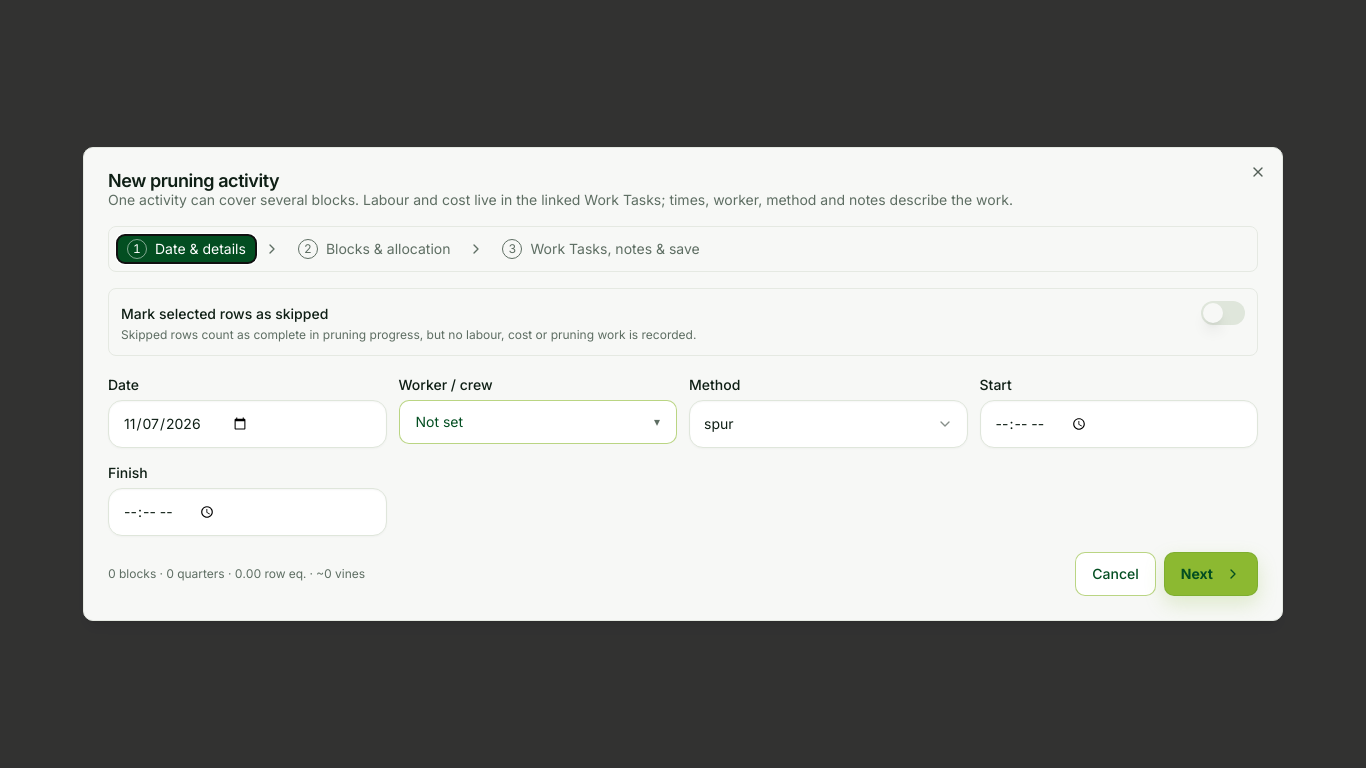
Test case: Record Pruning dialog — skipped mode › hides worker, method, times and Work Task when skipped is on
The width and height of the screenshot is (1366, 768).
Later steps or results of the test are not shown.
Expected: the text "Worker / crew" is shown, left=398, top=376, right=492, bottom=393
Click the switch named "Mark selected rows as skipped" at (1223, 313), box left=1201, top=301, right=1245, bottom=325
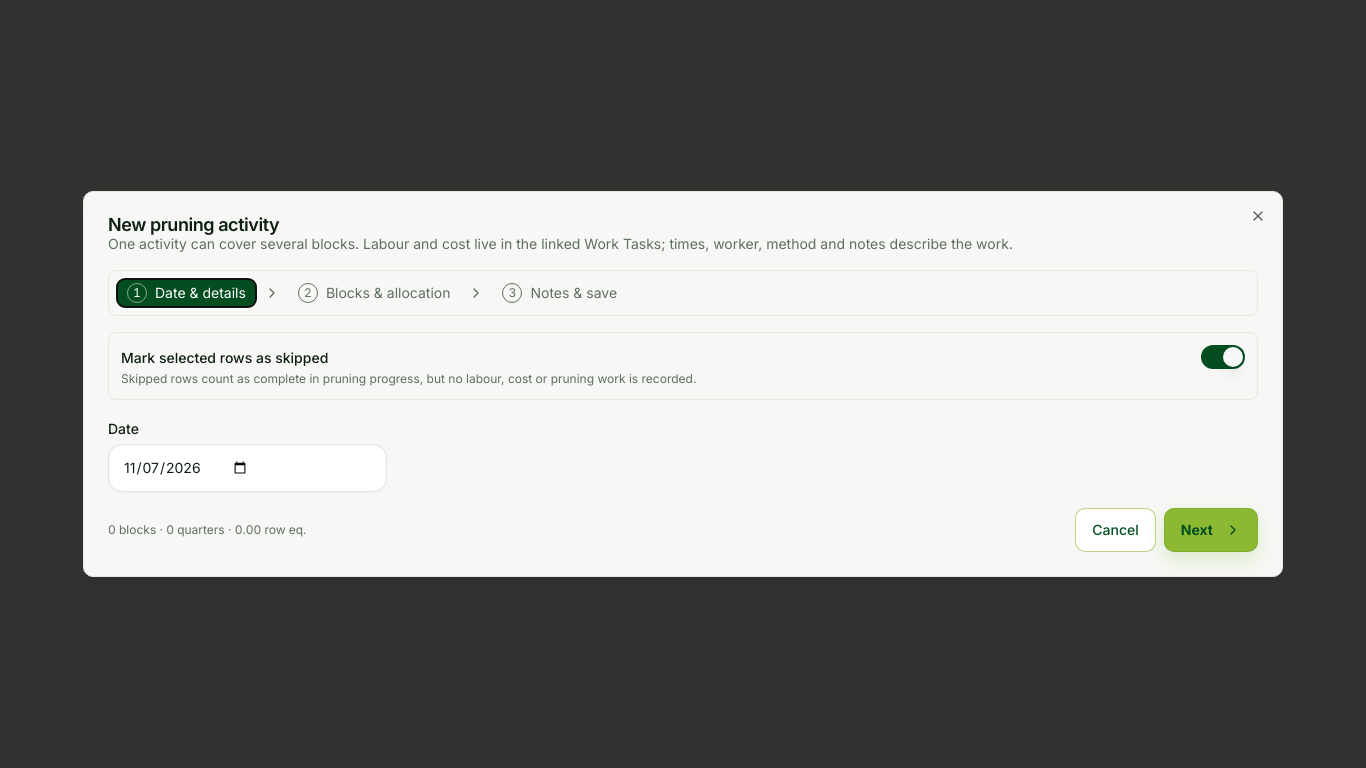
Expected: the text "Worker / crew" is gone
Expected: the text "Start" is gone
Expected: the text "Finish" is gone
